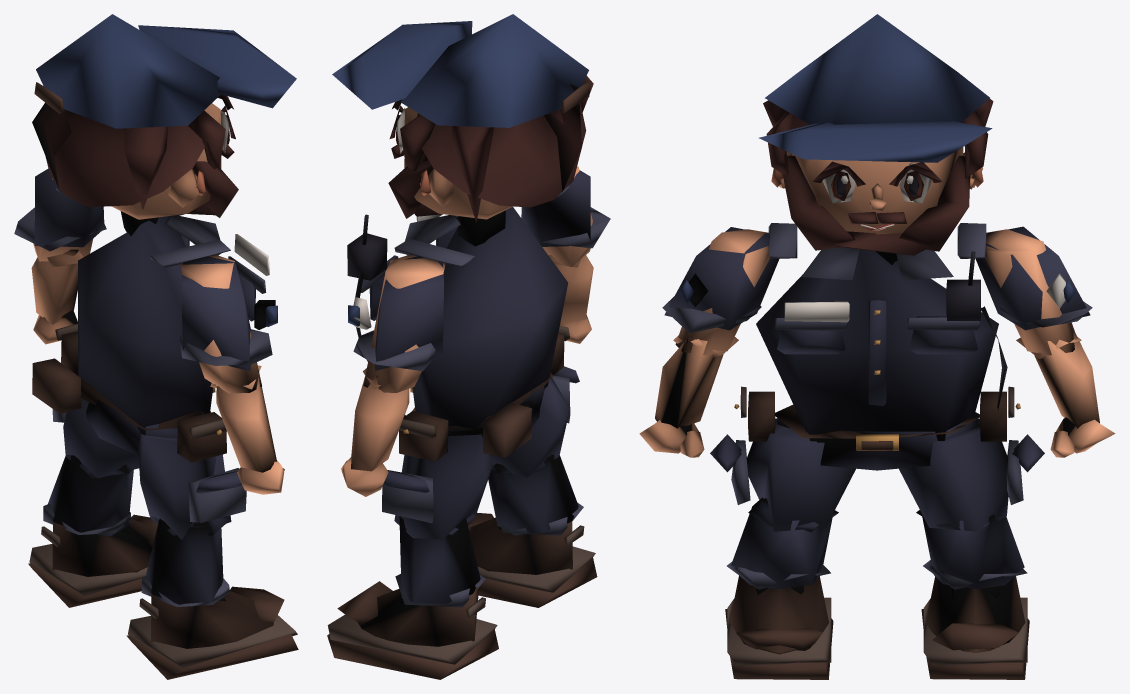
3 views of the same model, side by side, from view 1: azimuth 30°, elevation 25°; view 2: azimuth 150°, elevation 25°; view 3: azimuth 270°, elevation 25° (orthographic).
Visible parts, largest first — view 1: head, torso, footR, armR, hip, footL, legR, shinR, shinL, armL, foreArmR, legL (+3 smaller); view 2: head, torso, footL, armL, footR, legL, shinL, hip, shinR, armR, foreArmL, legR (+3 smaller); view 3: head, torso, footR, footL, legL, armR, armL, legR, hip, shinR, shinL, foreArmR (+3 smaller).
Boxes of the visible parts, x1=… form: head: x1=32, y1=14, x2=296, y2=236; torso: x1=55, y1=185, x2=269, y2=434; footR: x1=126, y1=586, x2=298, y2=679; armR: x1=179, y1=254, x2=277, y2=393; hip: x1=32, y1=323, x2=226, y2=462; footL: x1=28, y1=514, x2=157, y2=607; legR: x1=138, y1=434, x2=246, y2=539; shinR: x1=141, y1=516, x2=229, y2=606; shinL: x1=43, y1=454, x2=136, y2=536; armL: x1=14, y1=168, x2=106, y2=261; foreArmR: x1=210, y1=365, x2=276, y2=472; legL: x1=52, y1=375, x2=139, y2=478; head: x1=332, y1=14, x2=593, y2=246; torso: x1=347, y1=186, x2=569, y2=436; footL: x1=327, y1=581, x2=498, y2=679; armL: x1=348, y1=254, x2=445, y2=392; footR: x1=468, y1=512, x2=597, y2=607; legL: x1=382, y1=434, x2=493, y2=539; shinL: x1=395, y1=514, x2=485, y2=607; hip: x1=399, y1=326, x2=569, y2=461; shinR: x1=488, y1=452, x2=583, y2=535; armR: x1=521, y1=166, x2=610, y2=266; foreArmL: x1=351, y1=368, x2=409, y2=471; legR: x1=489, y1=366, x2=579, y2=477; head: x1=759, y1=14, x2=993, y2=264; torso: x1=756, y1=223, x2=1007, y2=442; footR: x1=725, y1=575, x2=833, y2=679; footL: x1=921, y1=576, x2=1029, y2=679; legL: x1=899, y1=418, x2=1044, y2=531; armR: x1=662, y1=227, x2=779, y2=355; armL: x1=975, y1=226, x2=1092, y2=355; legR: x1=710, y1=418, x2=855, y2=531; hip: x1=734, y1=386, x2=1020, y2=470; shinR: x1=727, y1=497, x2=838, y2=589; shinL: x1=916, y1=510, x2=1027, y2=589; foreArmR: x1=655, y1=335, x2=738, y2=428.
Bounding box in the file's own units: 0.5238 × 1.39 × 0.9755.
